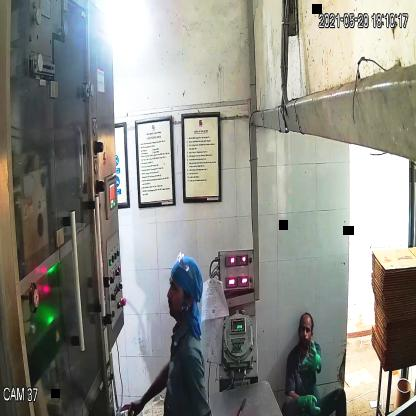no_goggles: (164, 276, 194, 302), (297, 321, 316, 339)
